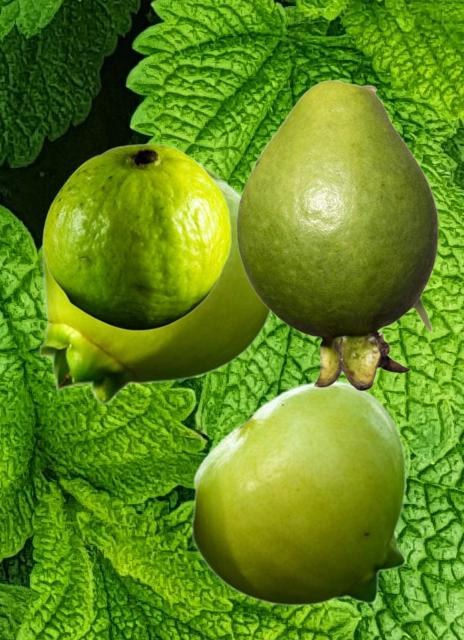guava: (236, 79, 437, 390), (38, 153, 273, 404), (190, 379, 406, 605), (42, 143, 230, 330)
